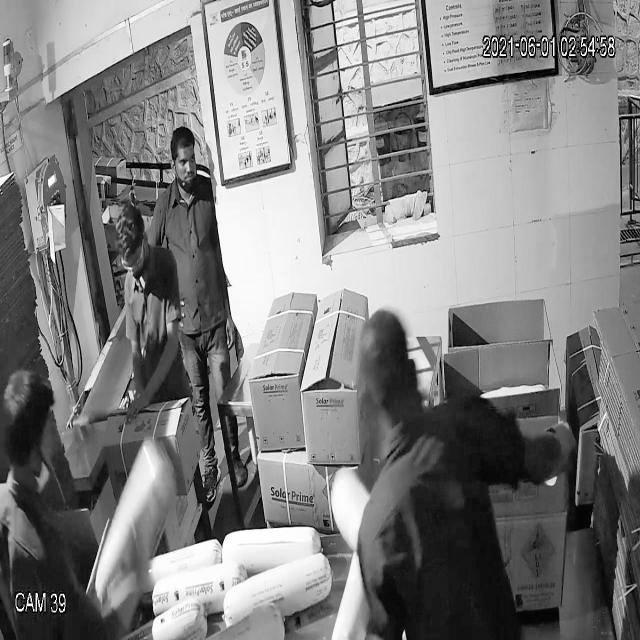glasses: (118, 243, 148, 278)
